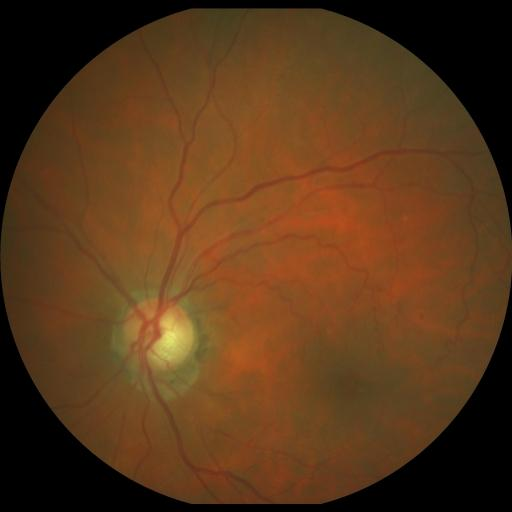Optic Cup: (144, 318, 177, 362)
Optic Disc: (124, 298, 194, 370)
